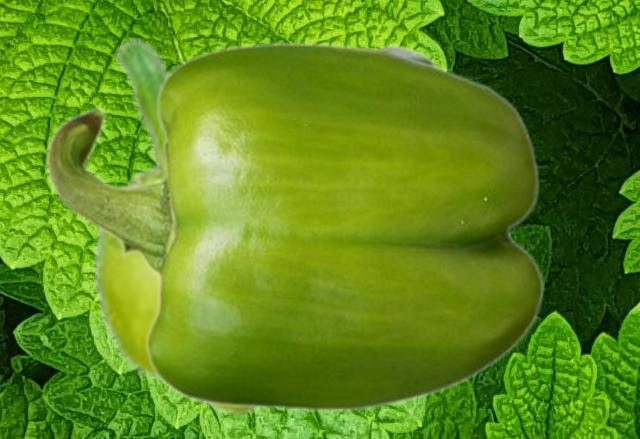bell_pepper: (45, 41, 544, 412), (91, 38, 173, 382)
